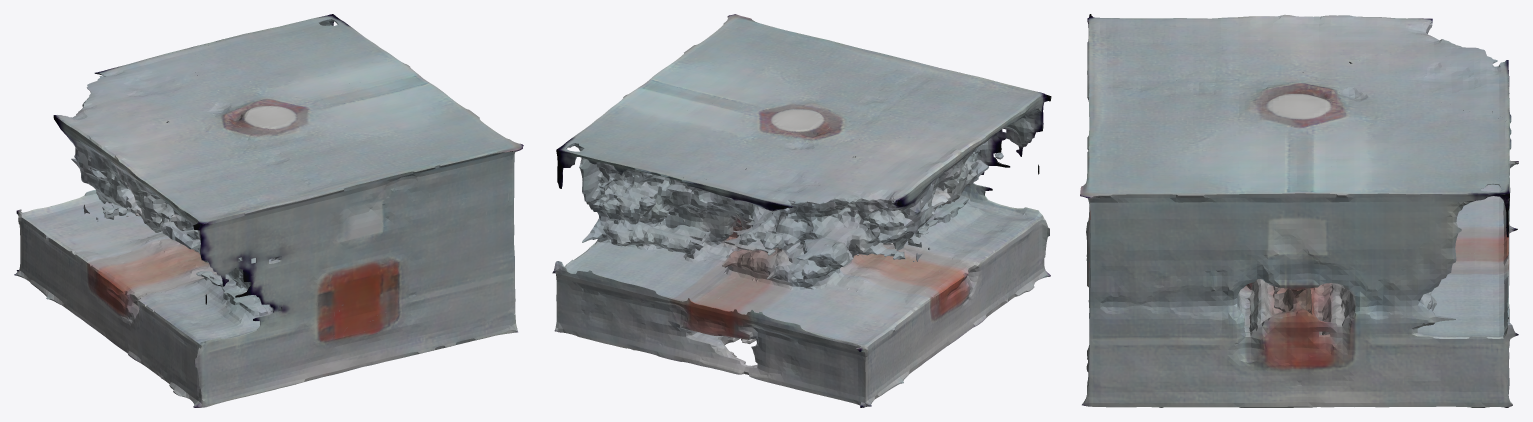
Rendered from input_F0001OL1S2R2_0001_000.glb.
The picture shows the model from 3 angles, left to right: view 1: azimuth 30°, elevation 25°; view 2: azimuth 150°, elevation 25°; view 3: azimuth 270°, elevation 25°; orthographic projection. The views are drawn at different scales.
Bounding box in the file's own units: 1.8 × 0.9854 × 1.8.
Materials: 1 (1 with a texture image).
